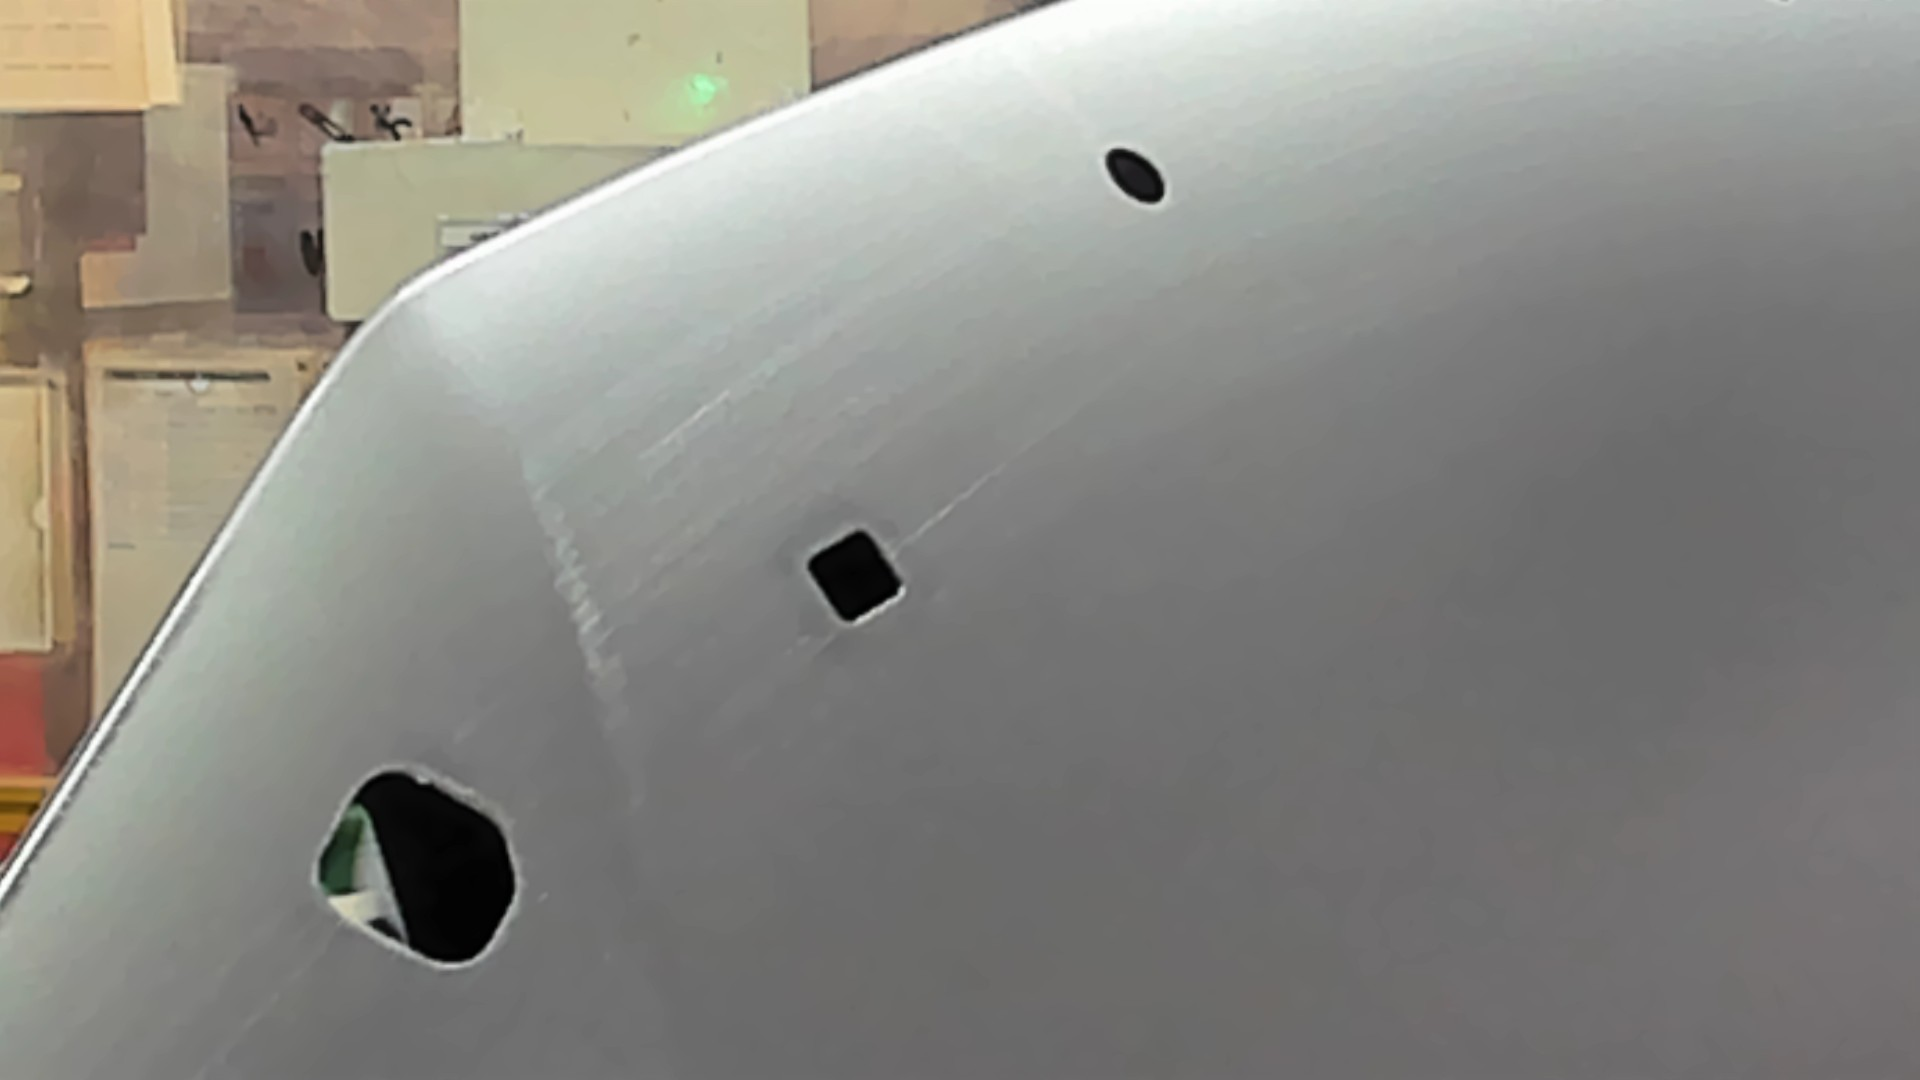chico: (1096, 133, 1171, 220)
grande: (280, 737, 555, 992)
mediano: (787, 516, 920, 647)
